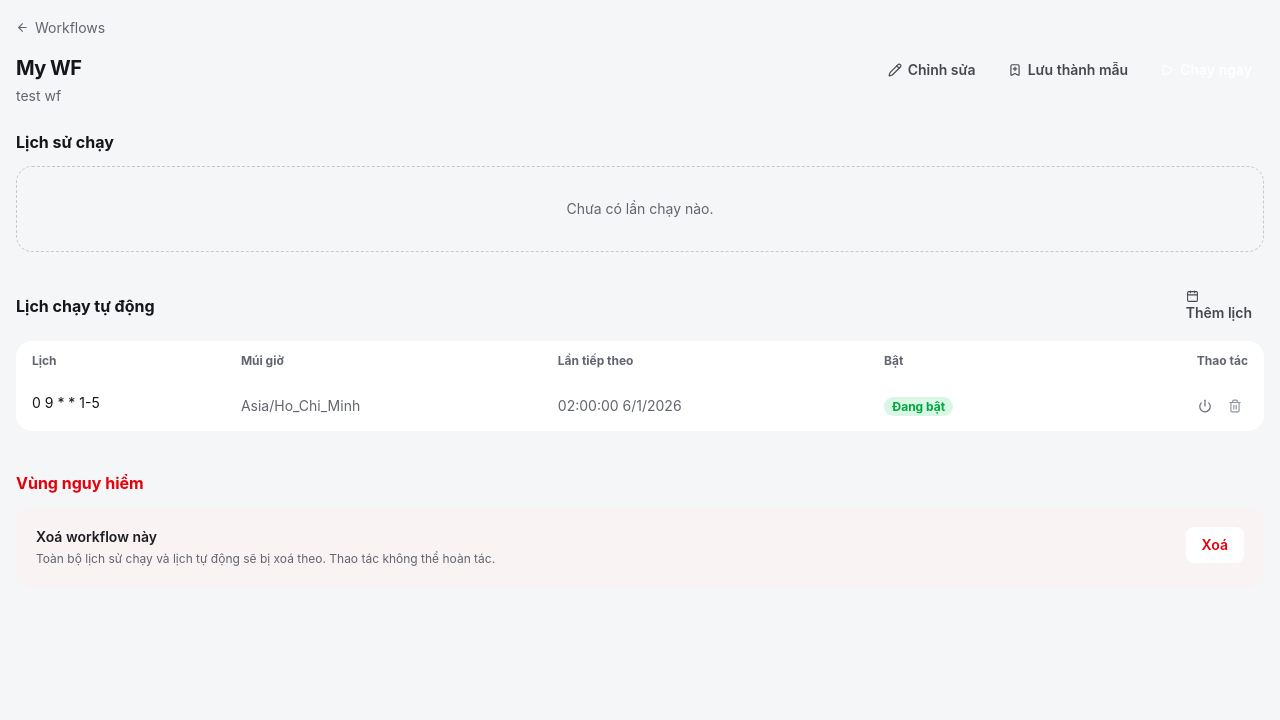
WorkflowDetailClient — schedule actions › toggle failure: shows error banner
Expected: the heading "My WF" is shown, [16,54,82,82]
Click the button named "Đã tắt" at (1205,406), box [1192,392,1218,418]
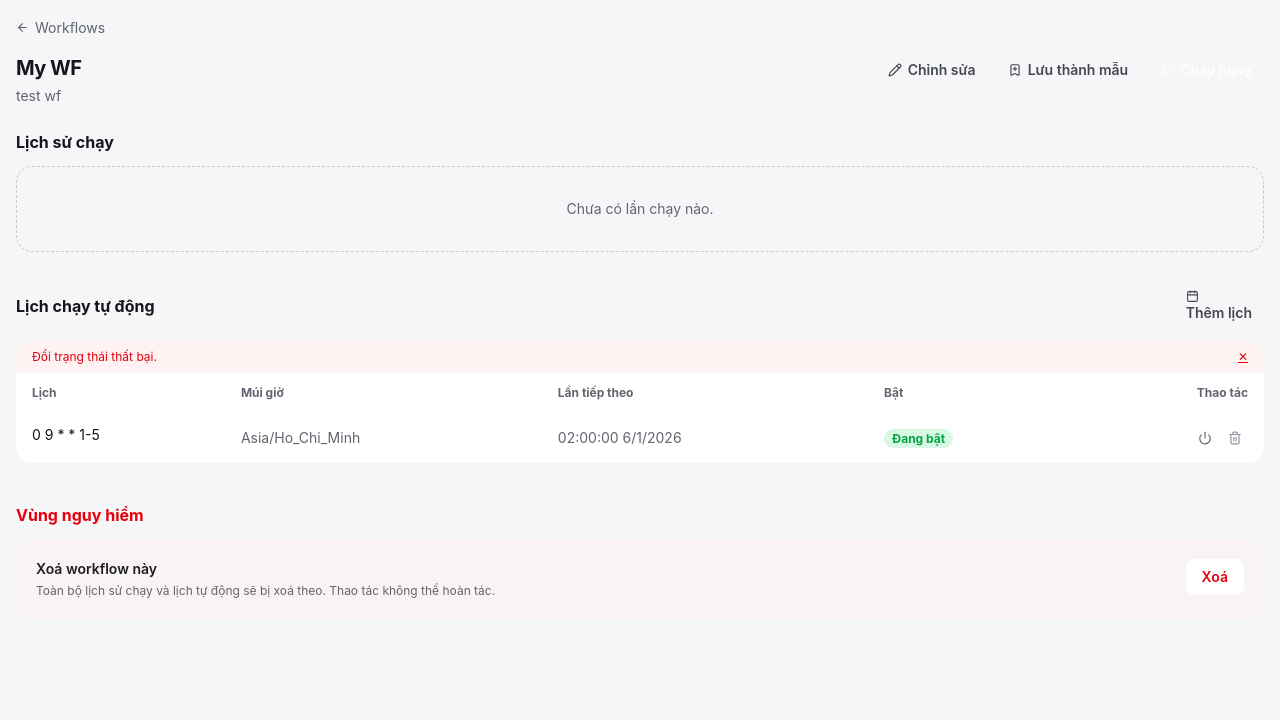
Result: the text "Đổi trạng thái thất bại." is shown at [32,348,157,364]
